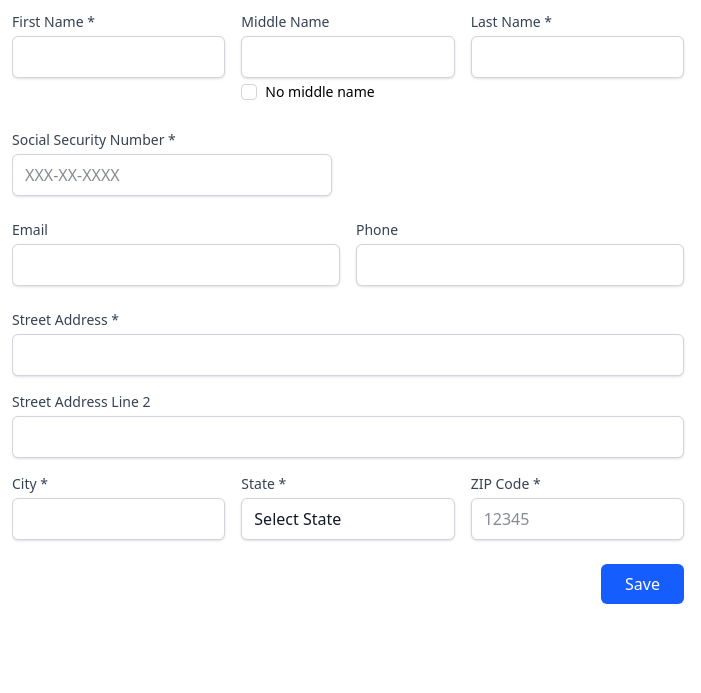
Scenario: PiiForm › validates required fields and shows error messages
# Try to submit empty form
Click the button "Save". click: (643, 584)
box: [601,564,684,604]
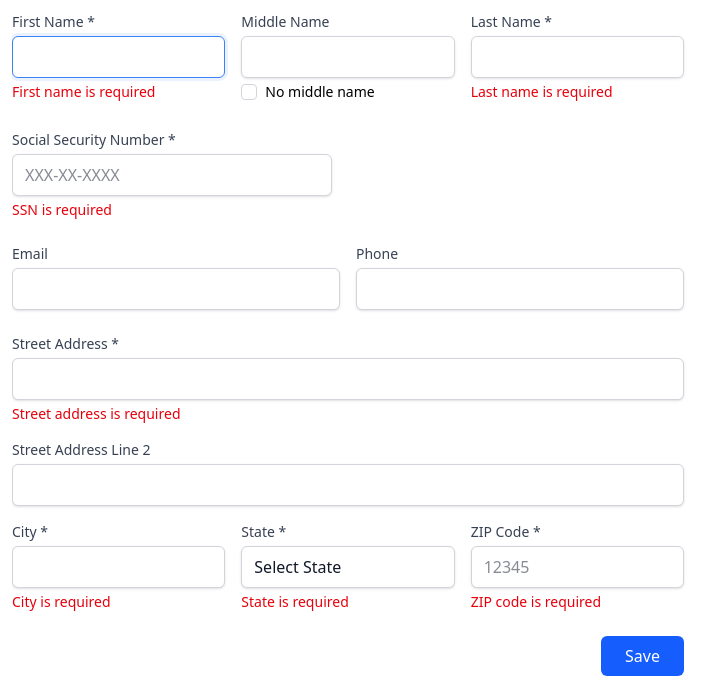
Now the text "First name is required" is shown, box [12,82,155,101]
Now the text "Last name is required" is shown, box [471,82,613,101]
Now the text "SSN is required" is shown, box [12,200,112,219]
